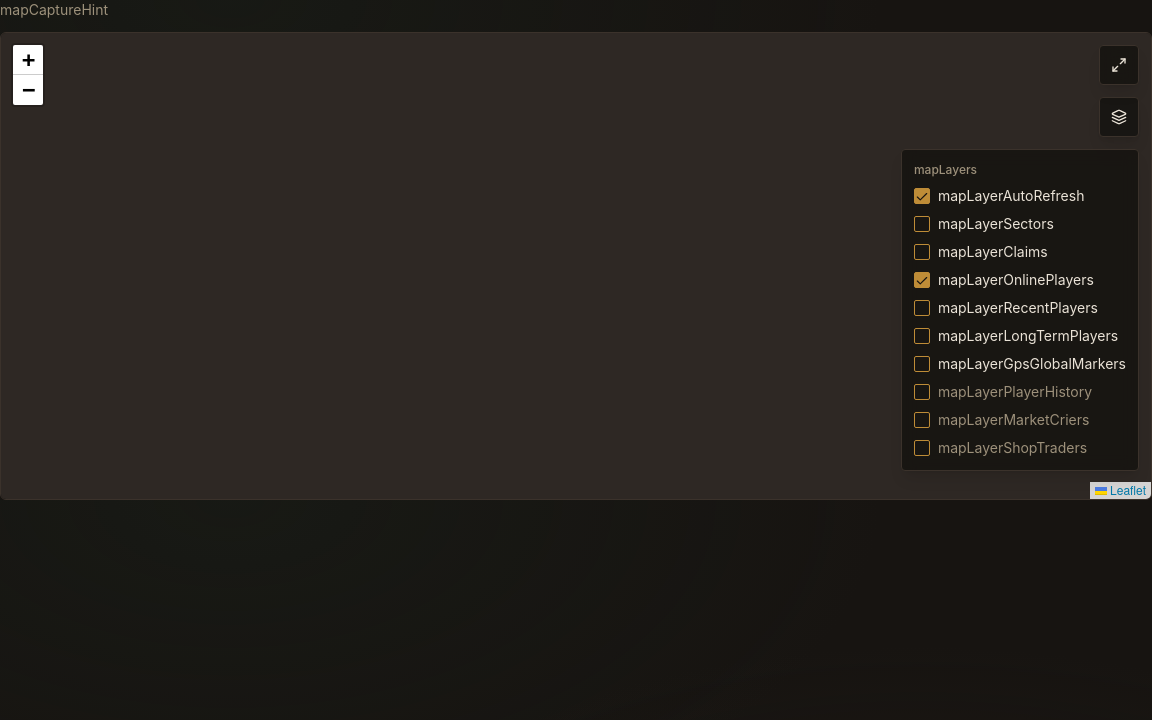
Test: AdminMapTab › requests browser fullscreen from expanded map mode
The width and height of the screenshot is (1152, 720).
Click the button named "mapExpandWindow".
click(1119, 65)  # box [1099,45,1139,85]
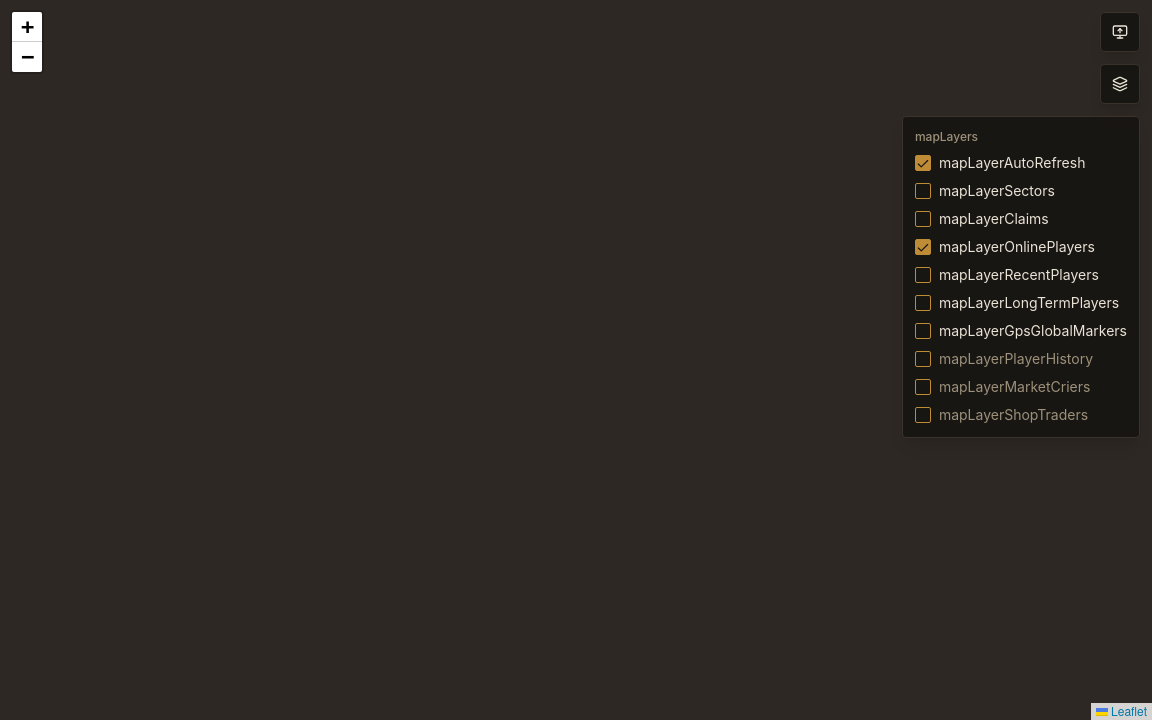
Click the button named "mapBrowserFullscreen".
click(1120, 32)  # box [1100,12,1140,52]
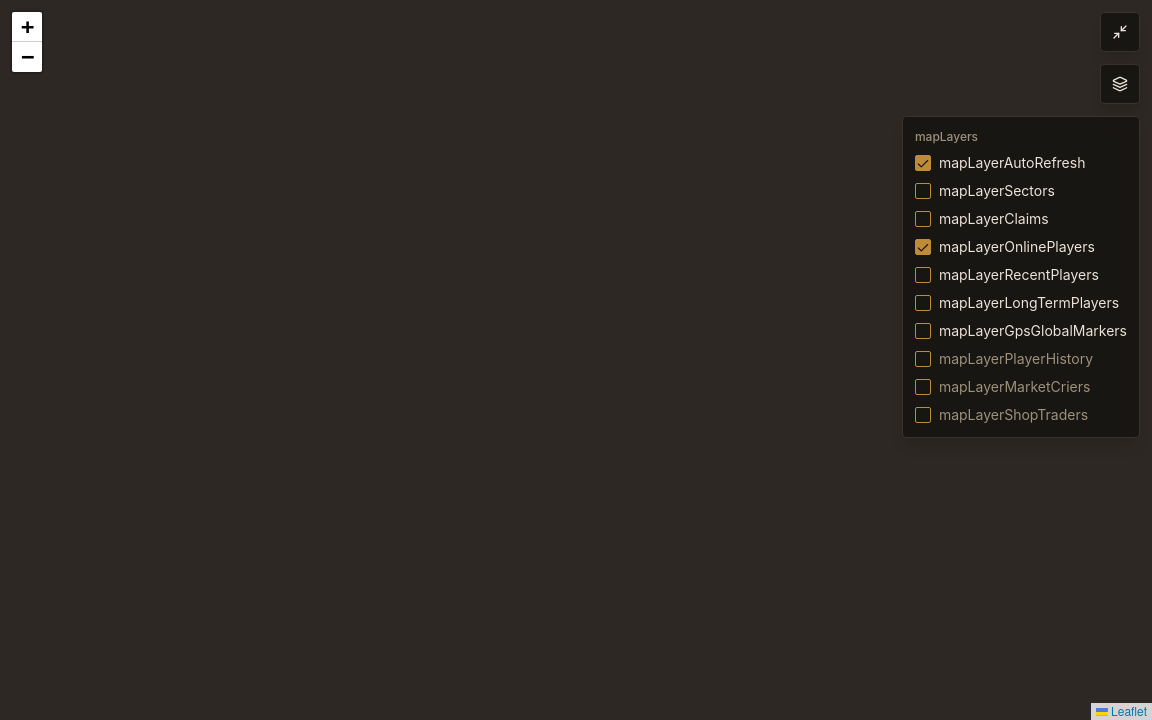
Expected: the button named "mapExitFullscreen" is shown, [1100,12,1140,52]
